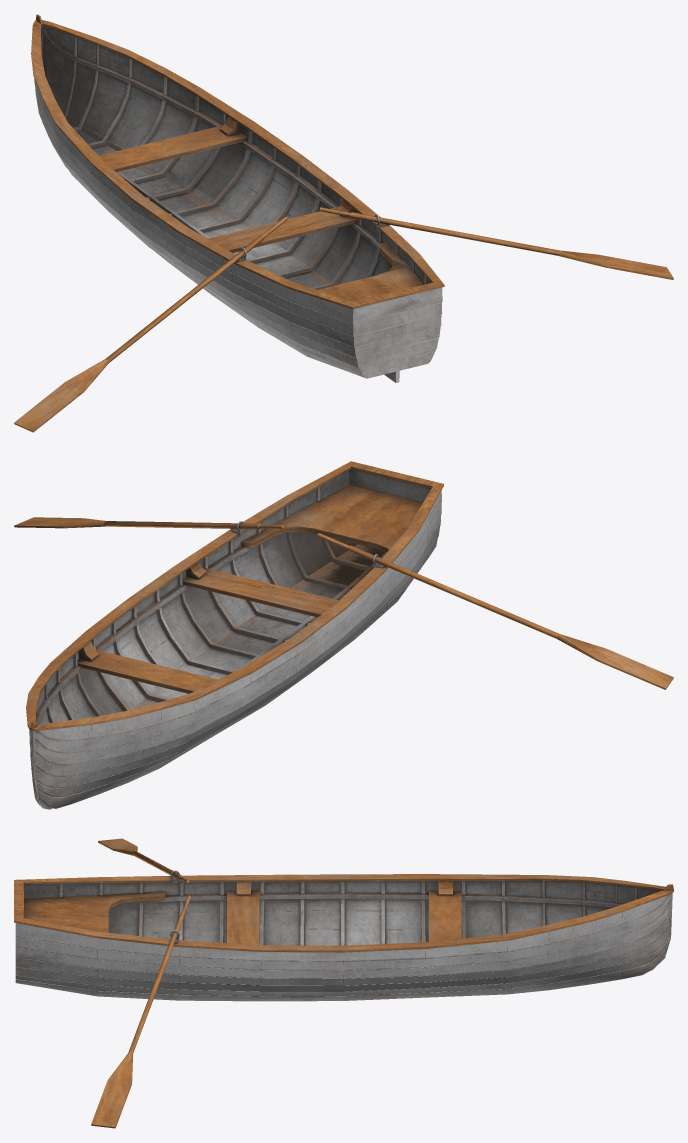
Rendered from rowboat.glb.
3 renders of one model, top to bottom at view 1: azimuth 30°, elevation 25°; view 2: azimuth 150°, elevation 25°; view 3: azimuth 270°, elevation 25°, orthographic. The views are drawn at different scales.
Parts seen in each view (by area): view 1: hull_mesh, upper_edge_mesh, support_strips_mesh, left_oar_mesh, front_bench_mesh, right_oar_mesh, middle_bench_mesh, horizontal_support_strips_mesh, rear_bench_mesh; view 2: hull_mesh, upper_edge_mesh, rear_bench_mesh, support_strips_mesh, left_oar_mesh, middle_bench_mesh, front_bench_mesh, right_oar_mesh, horizontal_support_strips_mesh; view 3: hull_mesh, upper_edge_mesh, rear_bench_mesh, support_strips_mesh, horizontal_support_strips_mesh, right_oar_mesh, middle_bench_mesh, front_bench_mesh, left_oar_mesh.
Boxes of the visible parts, x1,y1,x2,y2 form: hull_mesh: (34,25,442,382); upper_edge_mesh: (31,14,444,309); support_strips_mesh: (64,36,426,289); left_oar_mesh: (14,216,287,432); front_bench_mesh: (99,116,247,172); right_oar_mesh: (318,207,673,279); middle_bench_mesh: (208,200,358,252); horizontal_support_strips_mesh: (41,28,382,250); rear_bench_mesh: (318,242,423,301); hull_mesh: (29,468,441,809); upper_edge_mesh: (26,461,443,730); rear_bench_mesh: (241,484,422,552); support_strips_mesh: (36,486,369,724); left_oar_mesh: (317,533,673,689); middle_bench_mesh: (182,562,338,617); front_bench_mesh: (77,641,217,693); right_oar_mesh: (14,517,284,529); horizontal_support_strips_mesh: (36,539,267,724); hull_mesh: (15,880,672,1001); upper_edge_mesh: (14,874,673,952); rear_bench_mesh: (23,891,166,932); support_strips_mesh: (59,880,636,945); horizontal_support_strips_mesh: (125,892,623,907); right_oar_mesh: (91,895,190,1128); middle_bench_mesh: (226,881,259,944); front_bench_mesh: (429,880,461,941); left_oar_mesh: (98,838,189,882).
Size of the model in its own units: 5.05 by 0.8144 by 4.88.
Materials: 2 (2 with a texture image).
